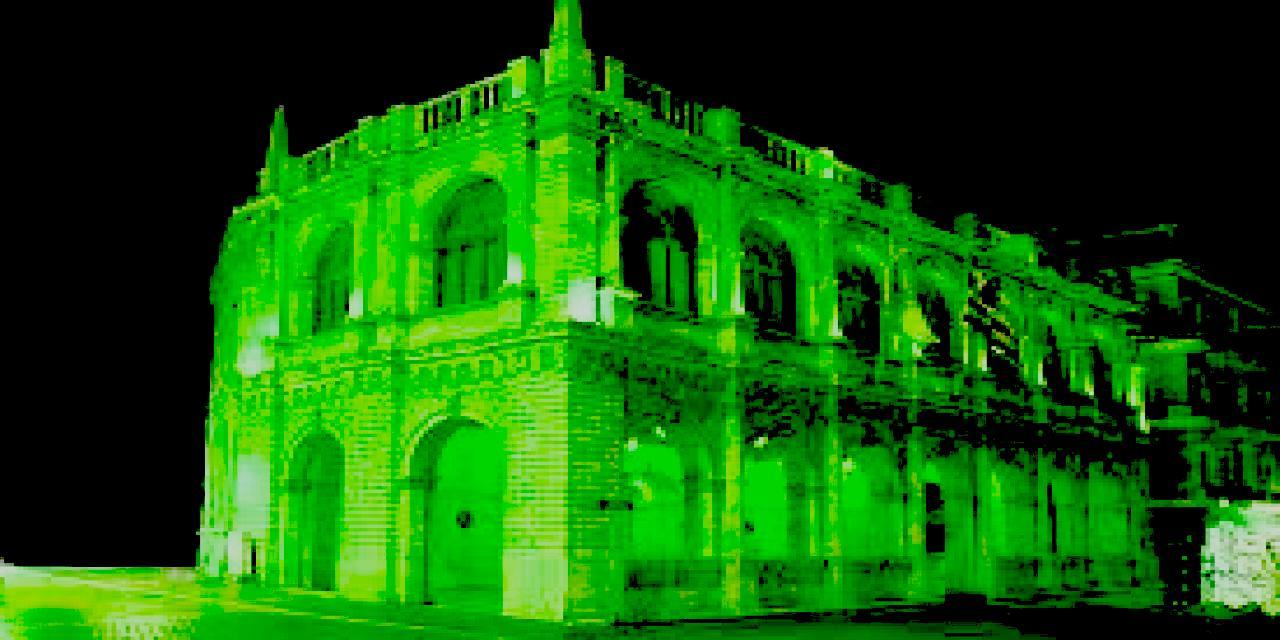Loggia: (193, 1, 1163, 633)
